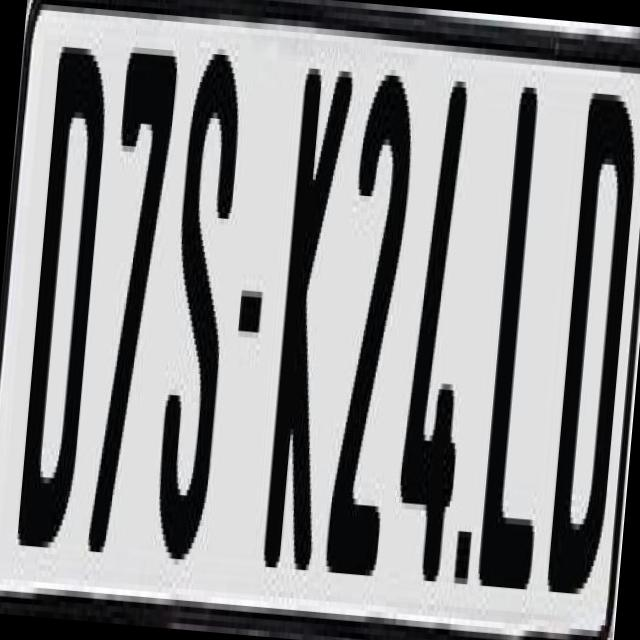2: (320, 67, 419, 570)
4: (391, 79, 488, 588)
7: (82, 34, 179, 566)
D: (13, 34, 114, 549), (543, 80, 640, 595)
K: (259, 62, 357, 582)
L: (473, 74, 574, 614)
S: (146, 46, 247, 584)
